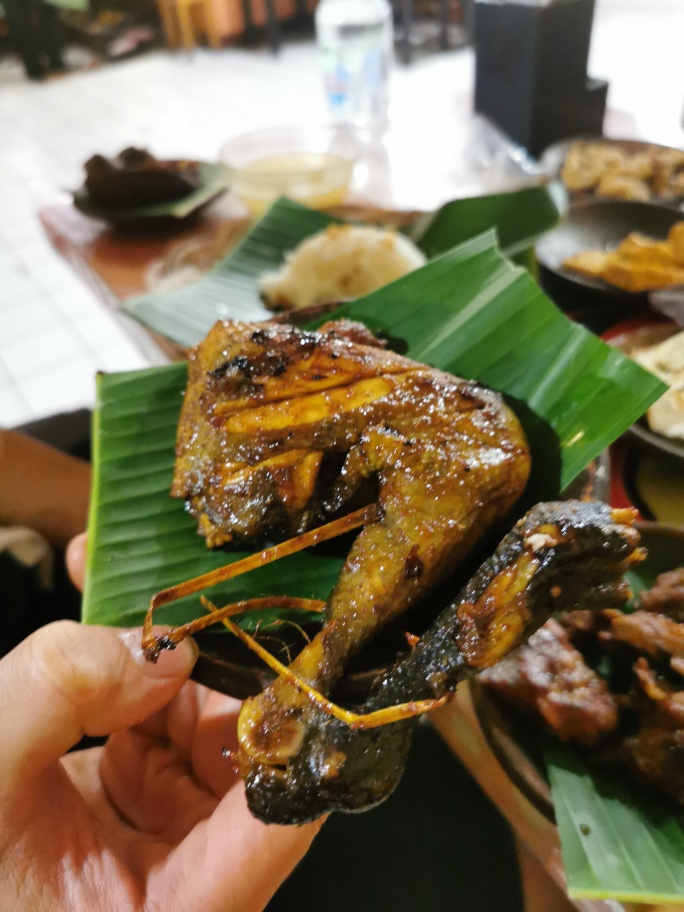ayam bakar: (179, 310, 640, 837)
